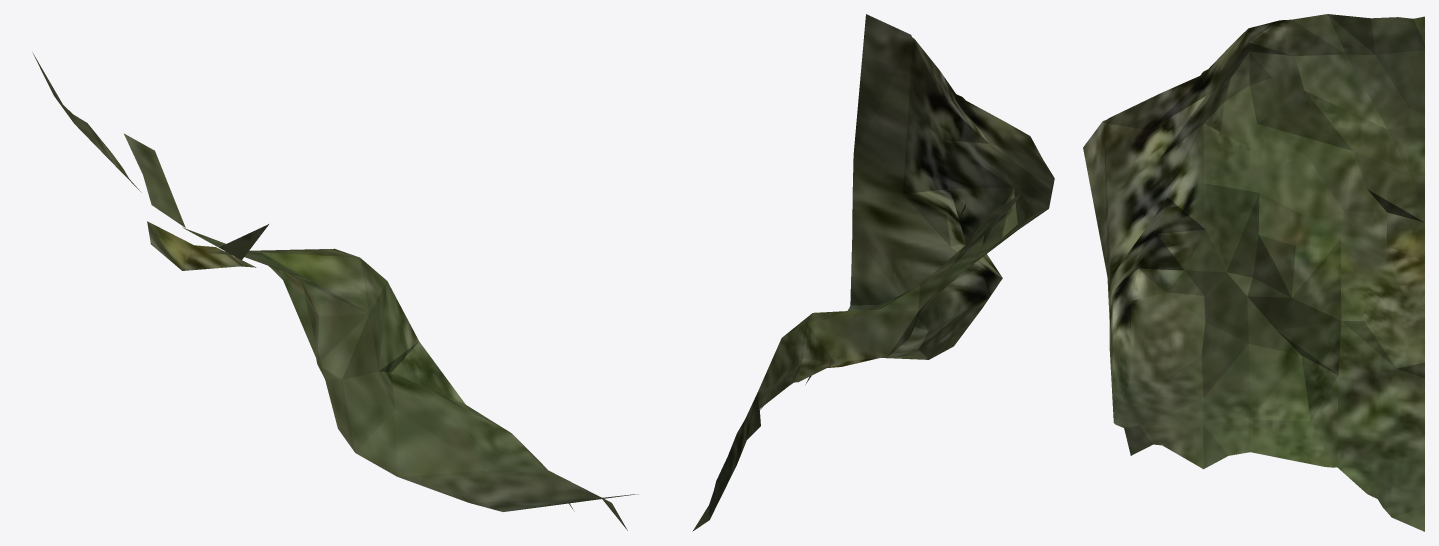
3 renders of one model, left to right at view 1: azimuth 30°, elevation 25°; view 2: azimuth 150°, elevation 25°; view 3: azimuth 270°, elevation 25°, orthographic. The views are drawn at different scales.
Size of the model in its own units: 1.07 by 1.43 by 1.15.
Materials: 1 (1 with a texture image).
